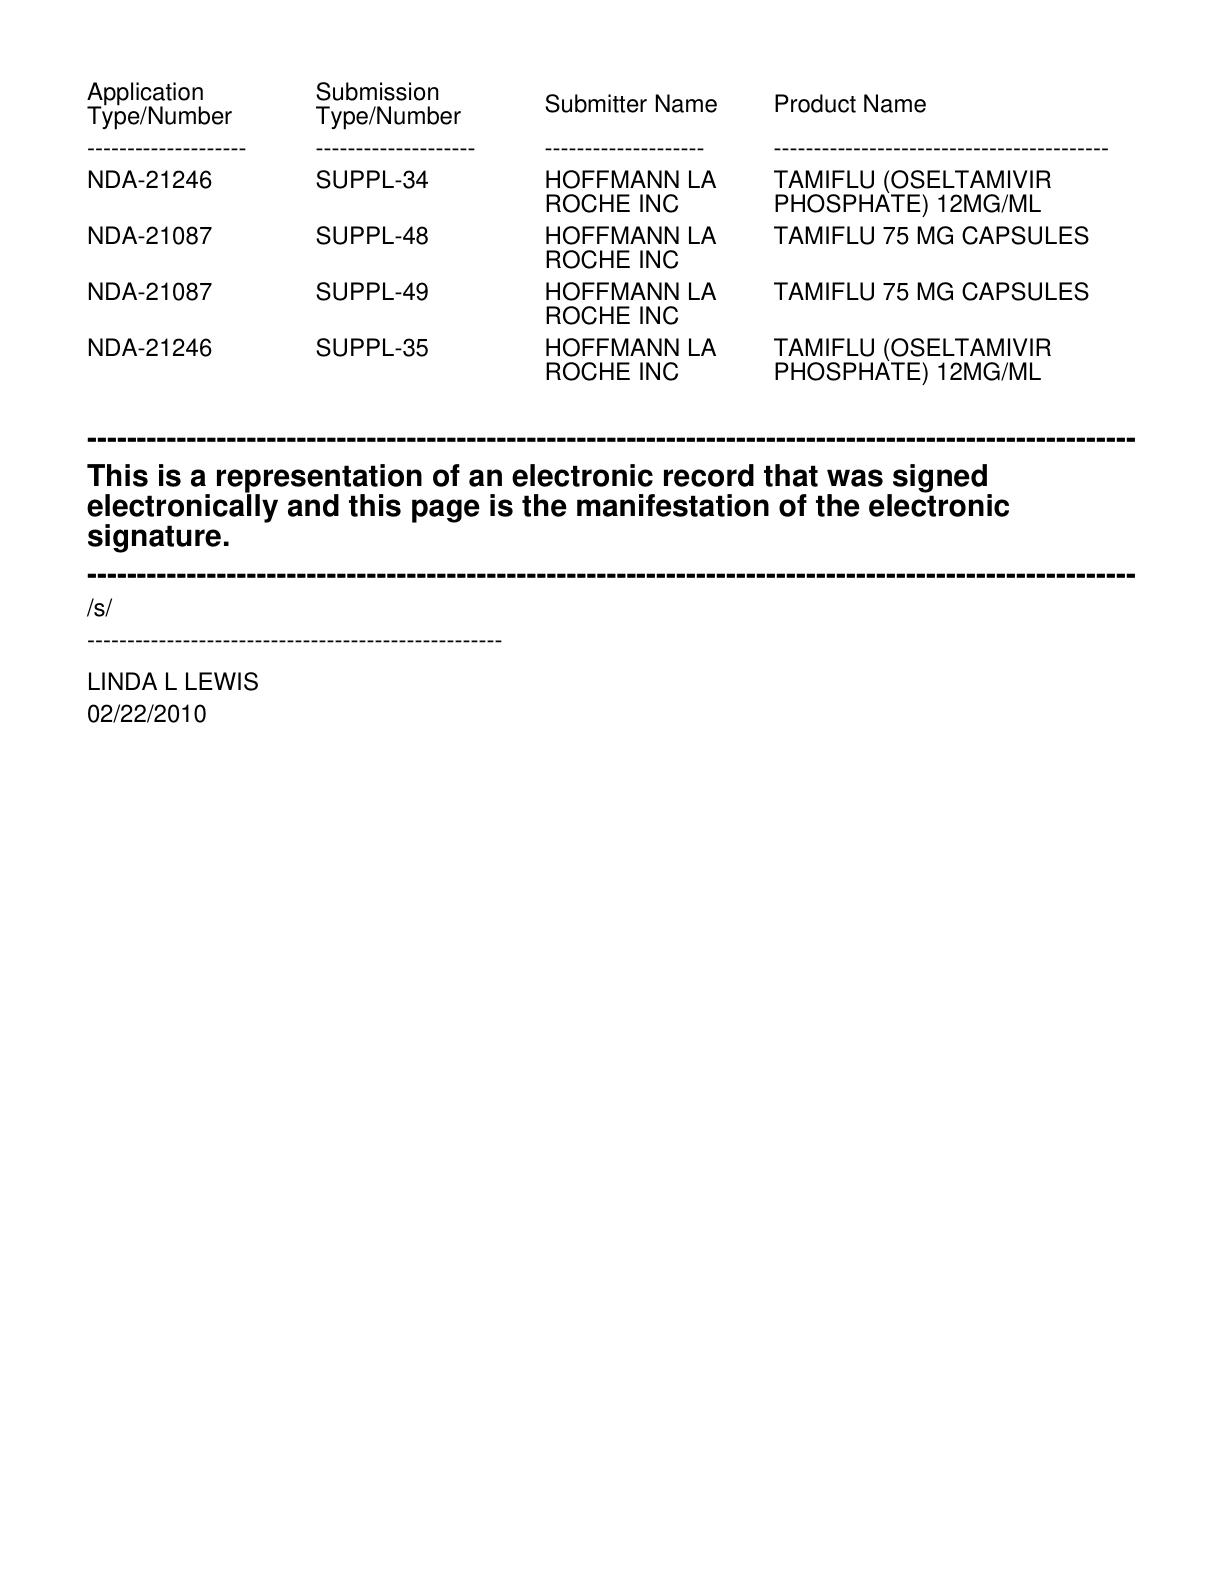nolines: (80, 75, 1106, 383)
